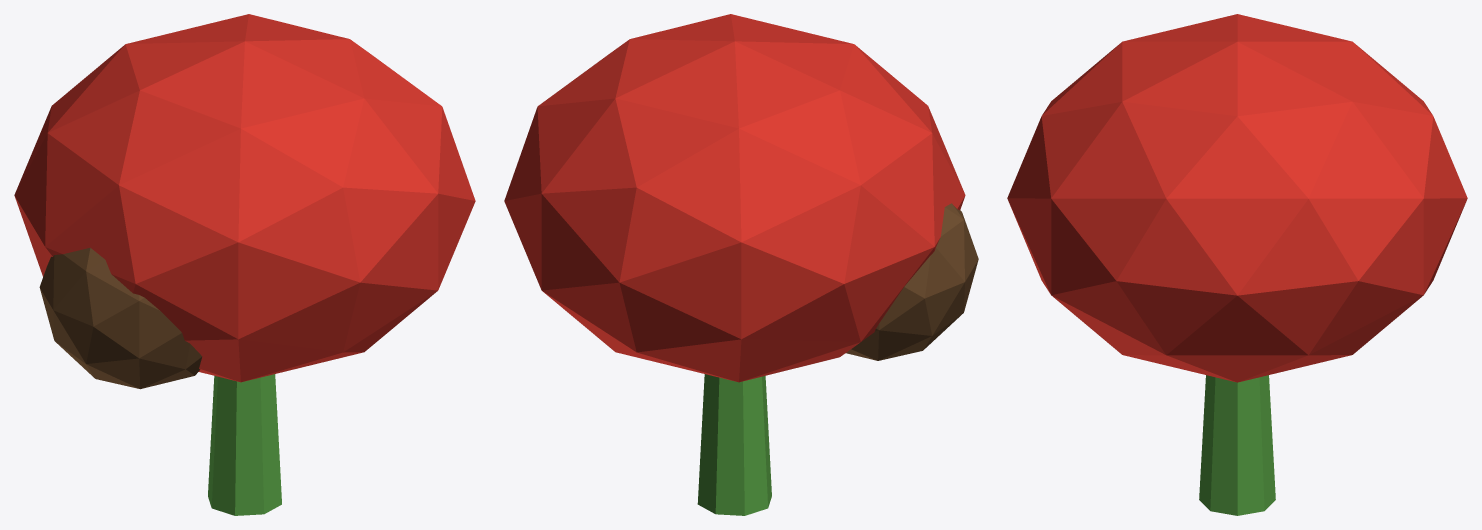
The model's file is M06_AppleTree.fbx.
3 renders of one model, left to right at view 1: azimuth 30°, elevation 25°; view 2: azimuth 150°, elevation 25°; view 3: azimuth 270°, elevation 25°, orthographic.
Visible parts, largest first — view 1: M06_AppleTree; view 2: M06_AppleTree; view 3: M06_AppleTree.
Part boxes in pixels (bbox=[...]): M06_AppleTree: bbox=[14, 14, 475, 515]; M06_AppleTree: bbox=[504, 14, 978, 515]; M06_AppleTree: bbox=[1007, 14, 1467, 515].
Size of the model in its own units: 7.4 by 7.9 by 7.2.
1 material, 1 textured.
